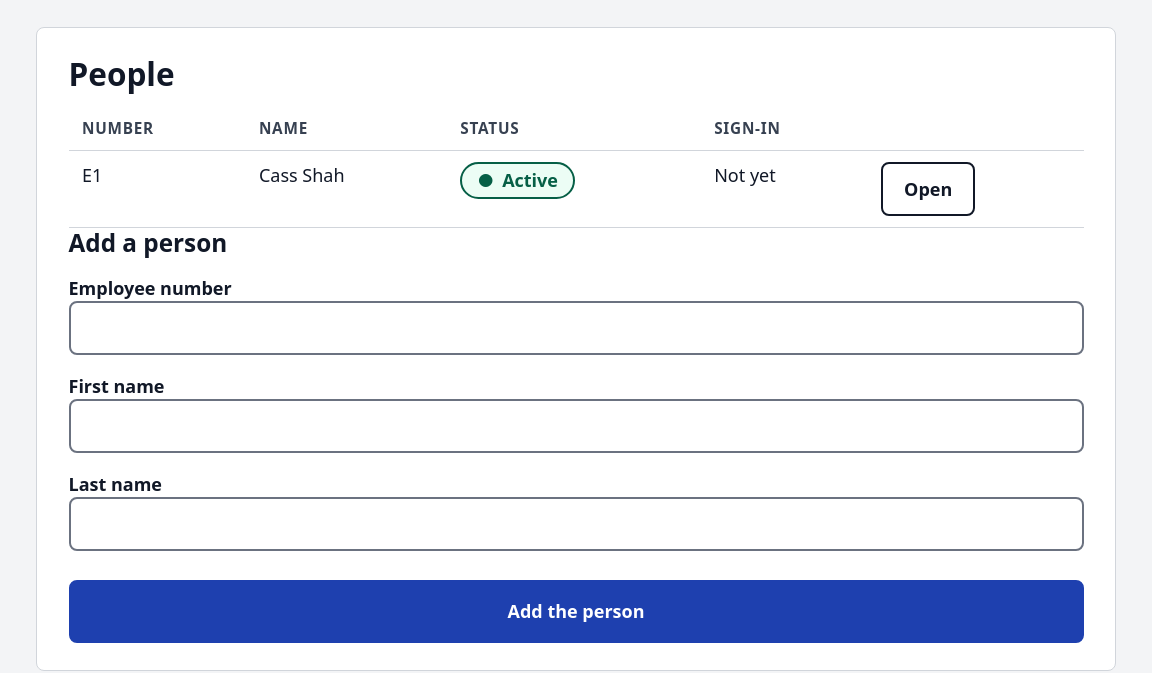
it: one person (EM-02, EM-04, EM-12..EM-16, MS-11) › MS-11, EM-16: a role is given in all stores or in one, and removed; an archived role is not offered; each change says they were signed out
The width and height of the screenshot is (1152, 673).
Click the button with aria-label "Open Cass Shah" at (928, 189), box [881,162,975,216]
(page scrolled)
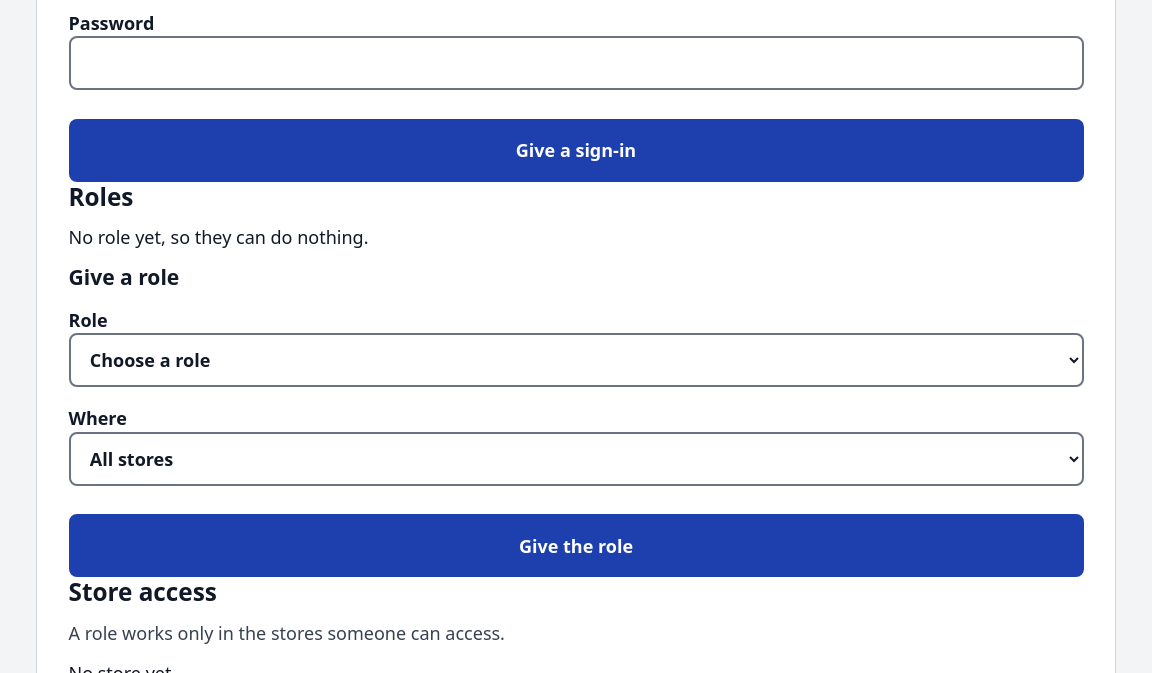
expect the text "No role yet, so they can do nothing." is shown: met, box [68,226,368,250]
Select "Cashier" in the dropdown labelled "Role" at (576, 360), box [68,333,1084,387]
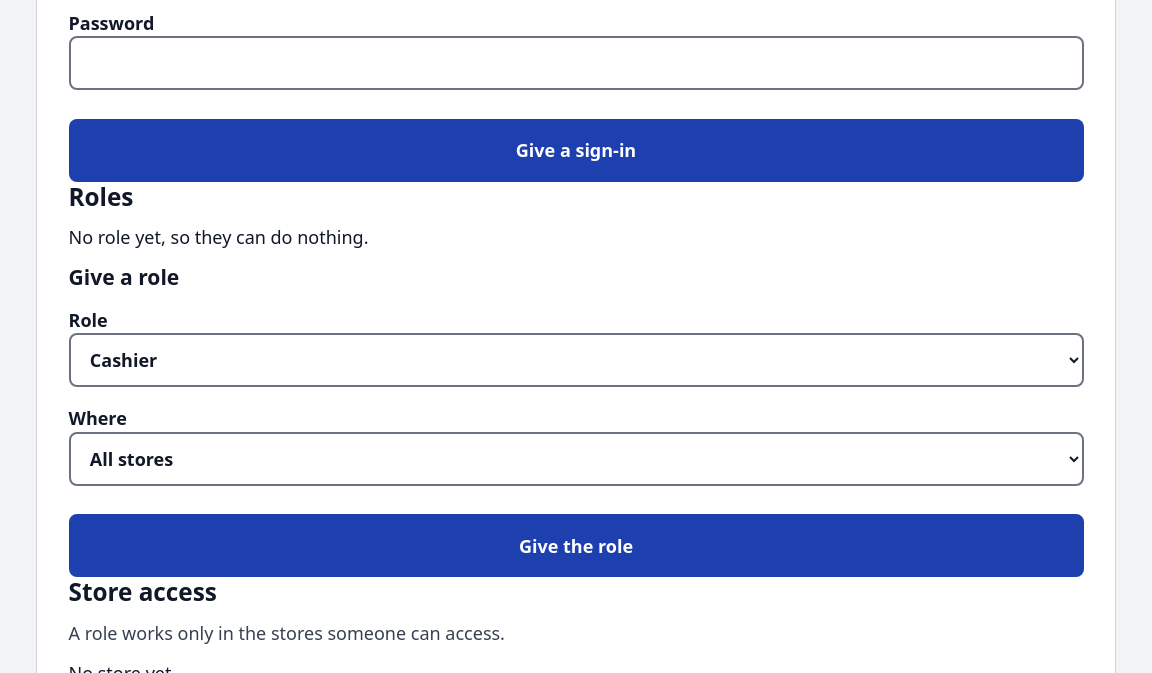
Submit the form "Give the role", box [68,264,1084,577]
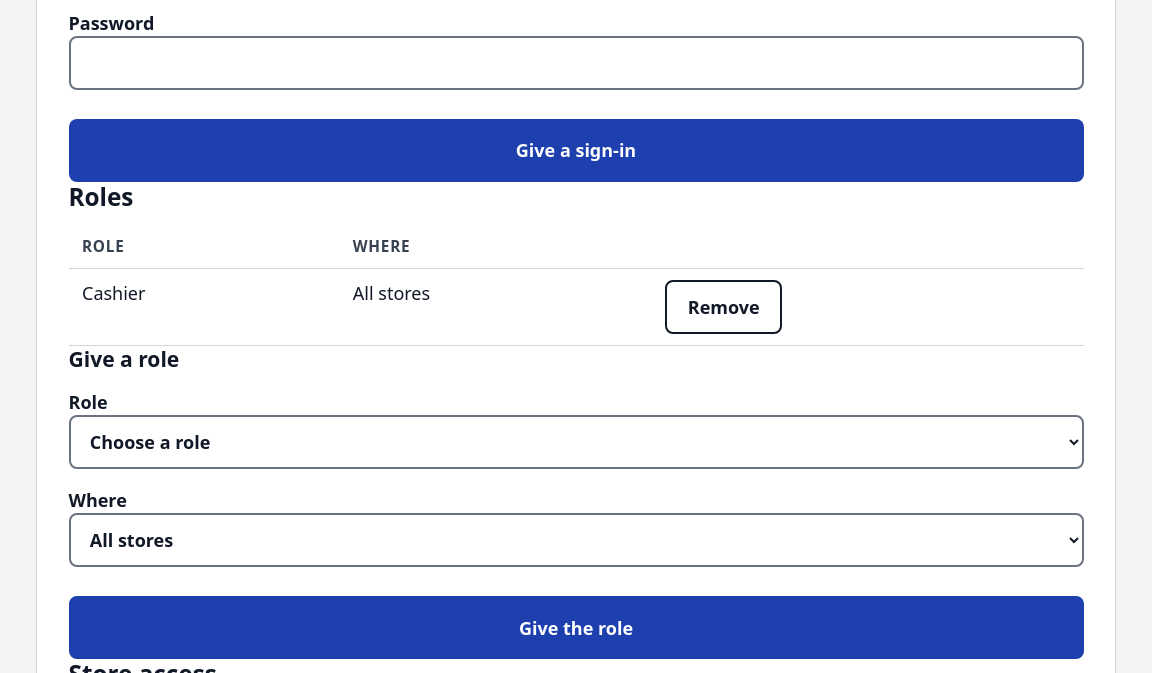
expect the text "All stores" is shown: met, box [339,269,652,345]
Select "Supervisor" in the dropdown labelled "Role" at (576, 442), box [68,415,1084,469]
Select "Station only" in the dropdown labelled "Where" at (576, 540), box [68,513,1084,567]
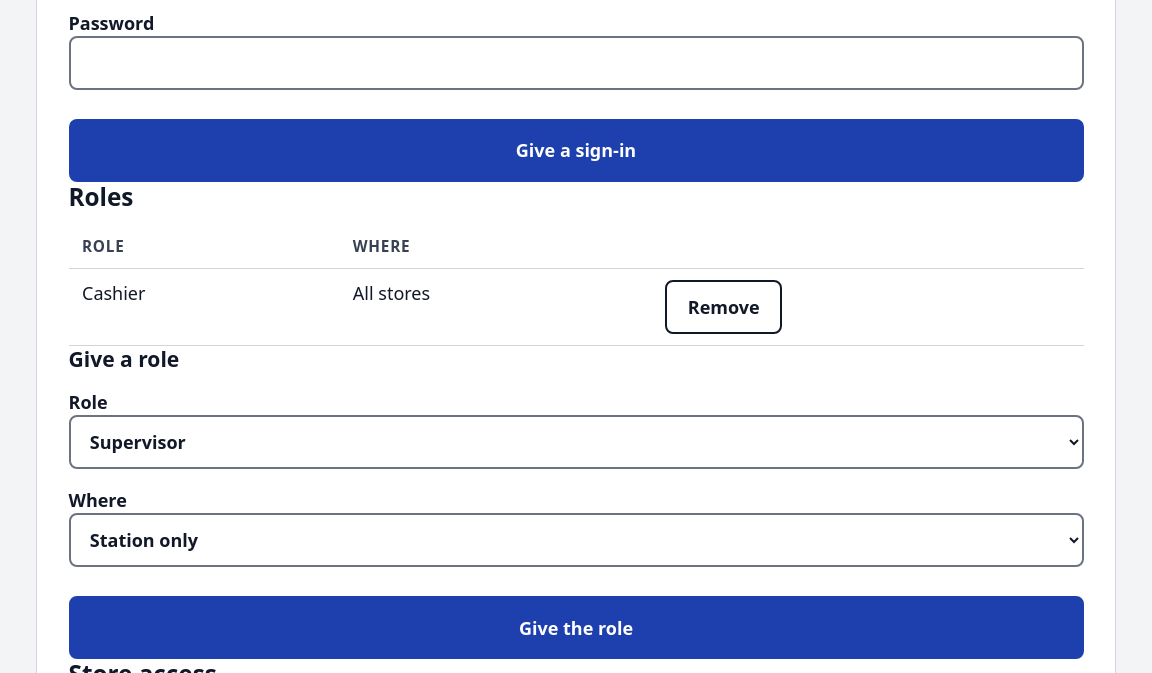
Submit the form "Give the role", box [68,346,1084,659]
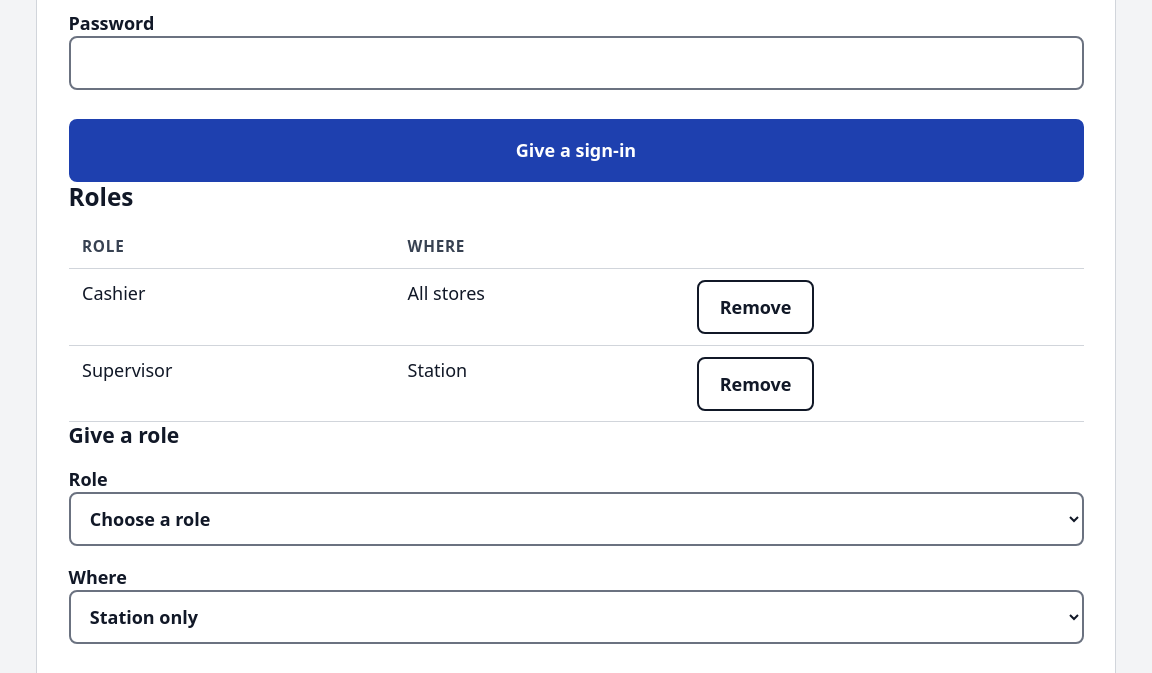
expect the text "Station" is shown: met, box [394,345,683,422]
Click the button with aria-label "Remove the role Cashier from Cass Shah" at (756, 307), box [697,280,814,334]
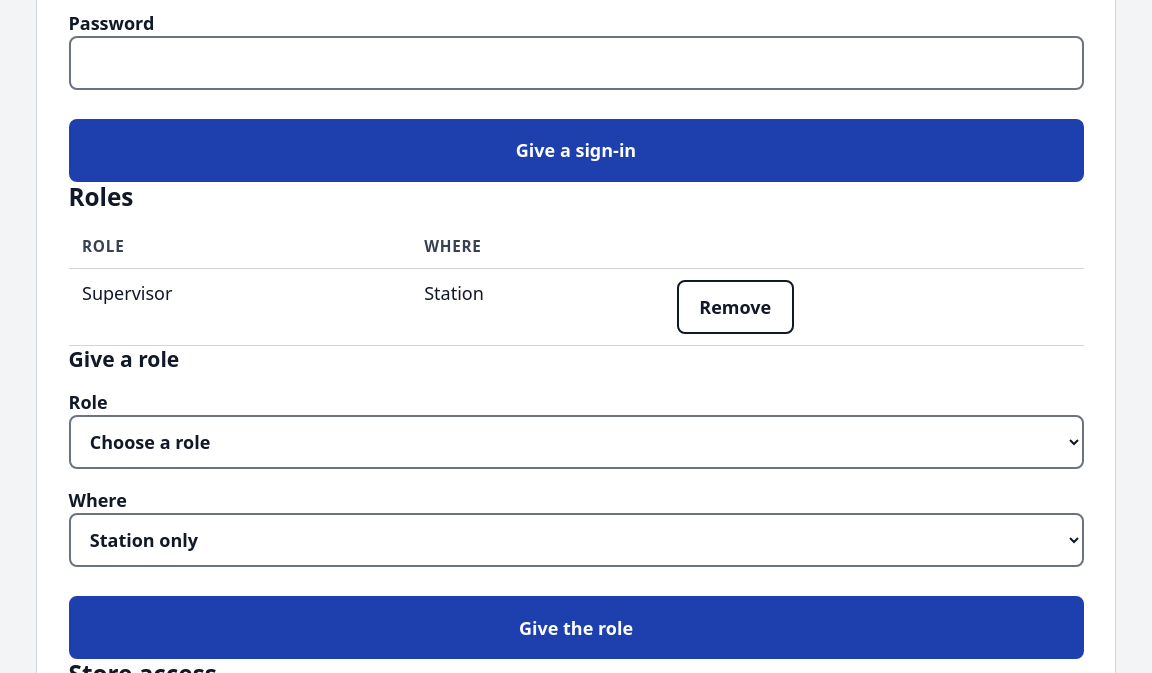
expect the cell "Cashier" is gone: met
